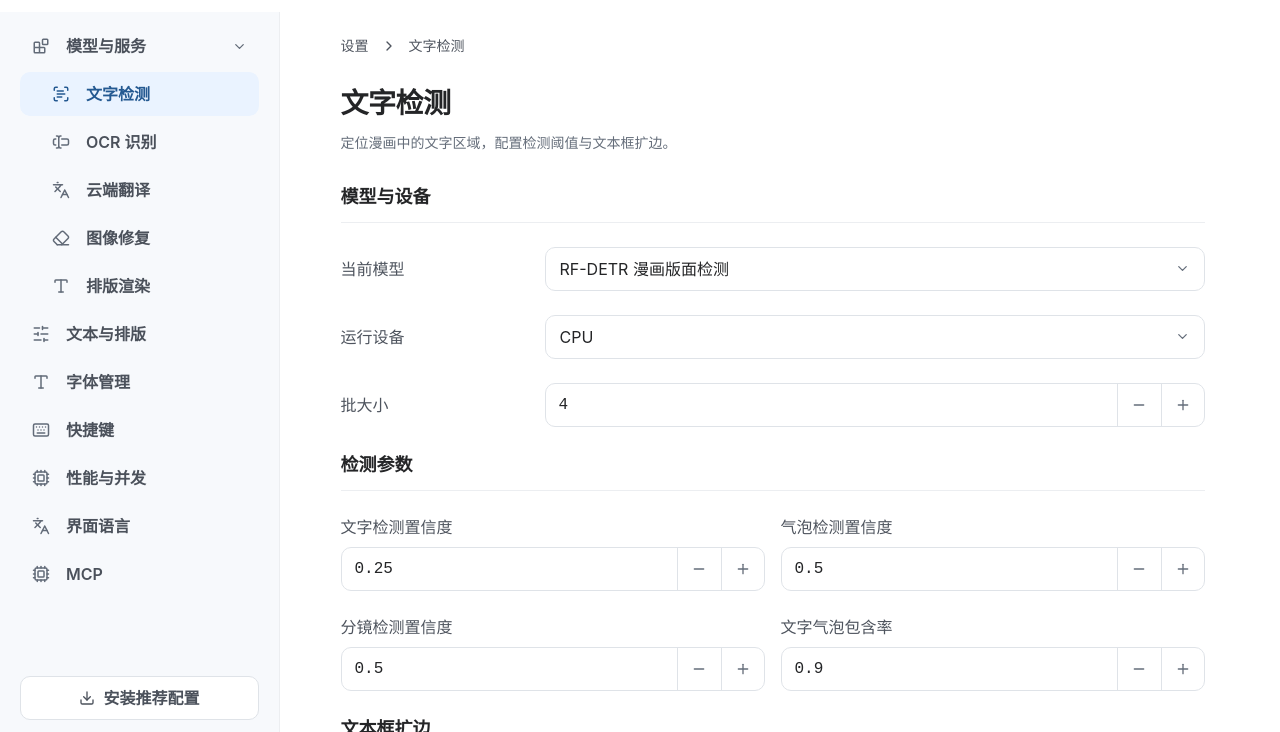
it: classification model form › reports model save errors without clearing the edited configuration and permits retry
This screenshot has width=1280, height=732.
Replace the text in the field labelled "文字检测置信度" with "0.42" at (508, 569), box x1=340 y1=547 x2=676 y2=591
(page scrolled)
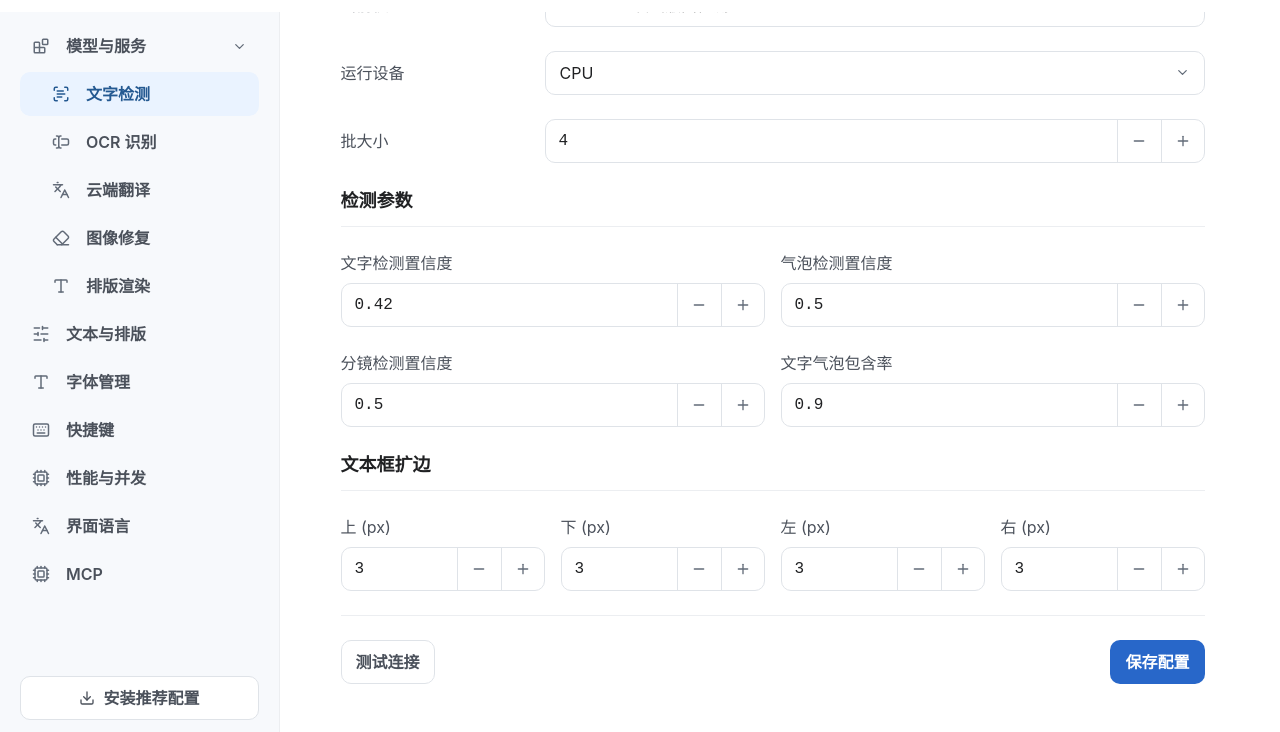
Click the button "保存配置".
click(1158, 662)  # box x1=1110 y1=640 x2=1204 y2=684
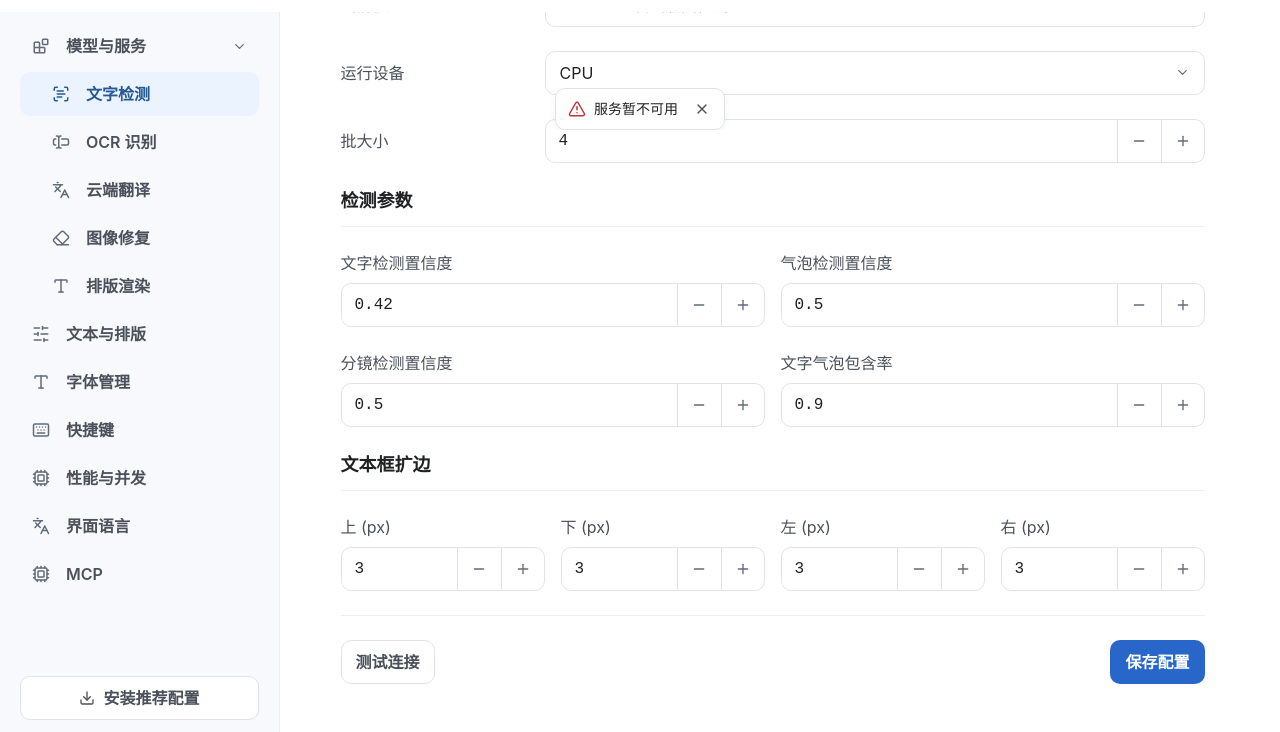
Check: the message named "保存失败" reads "服务暂不可用", box x1=594 y1=100 x2=678 y2=117
Click the button named "关闭提示".
click(702, 109)  # box x1=686 y1=93 x2=718 y2=125
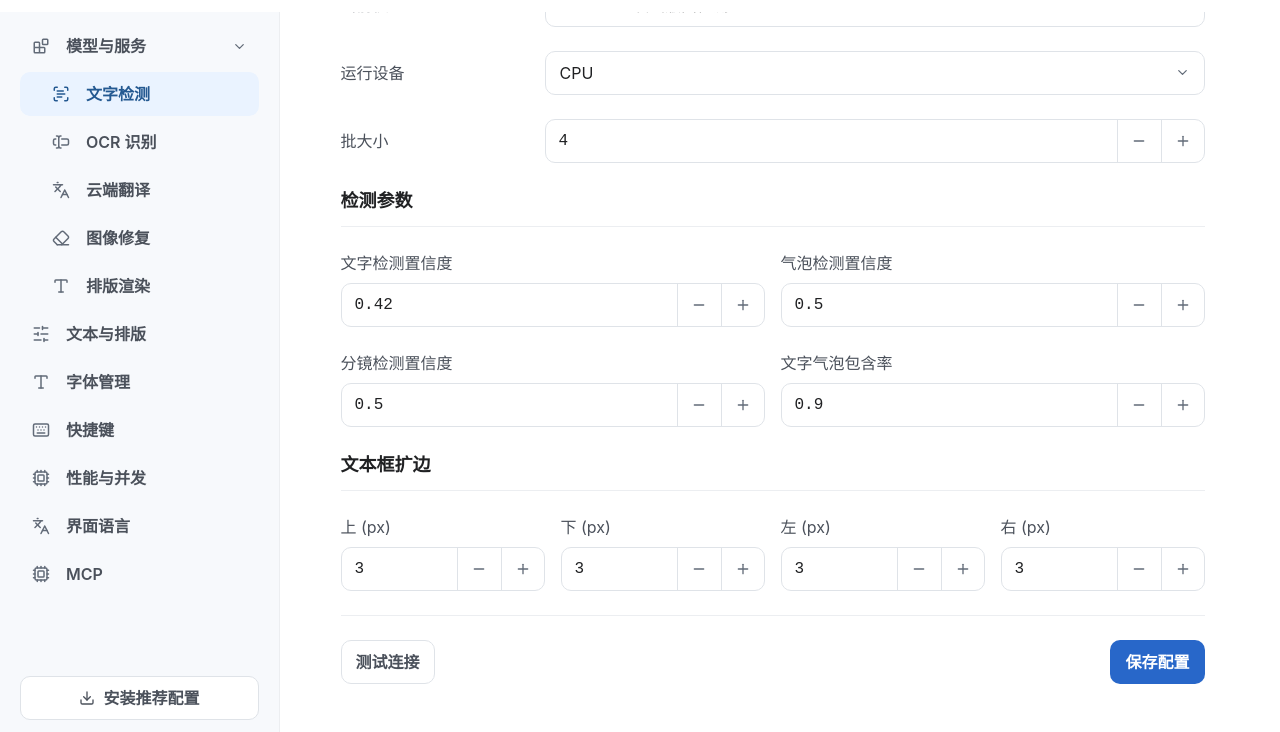
Click the button "保存配置".
click(1158, 662)  # box x1=1110 y1=640 x2=1204 y2=684
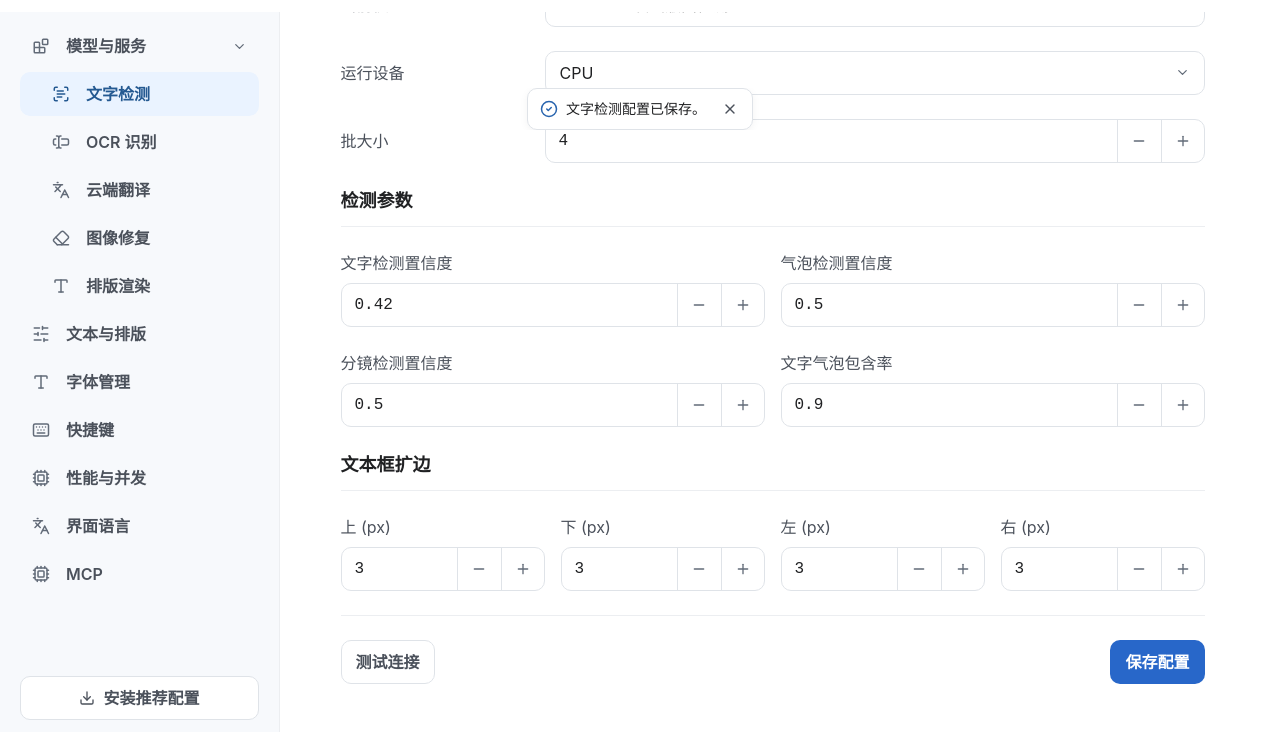
Check: the message named "保存成功" is shown, box x1=527 y1=88 x2=753 y2=130
